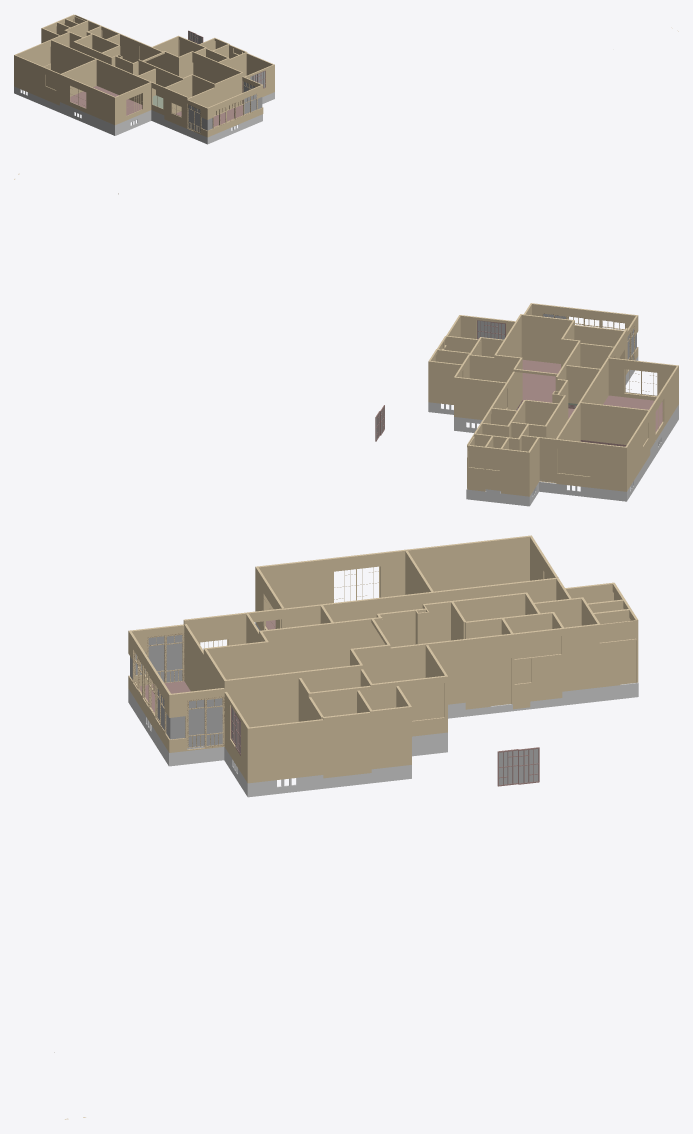
File: ttk.glb
The picture shows the model from 3 angles, top to bottom: view 1: azimuth 30°, elevation 25°; view 2: azimuth 150°, elevation 25°; view 3: azimuth 270°, elevation 25°; orthographic projection. The views are drawn at different scales.
Parts seen in each view (by area): view 1: group_1.001, group_5.006, group_5.001; view 2: group_1.001, group_5.006, group_5.001; view 3: group_1.001, group_5.006, group_1.018.
Boxes of the visible parts, <box> form: group_1.001: <box>14,14,274,137</box>; group_5.006: <box>14,86,274,144</box>; group_5.001: <box>70,86,242,126</box>; group_1.001: <box>428,303,678,496</box>; group_5.006: <box>428,356,678,506</box>; group_5.001: <box>522,359,662,446</box>; group_1.001: <box>128,535,638,783</box>; group_5.006: <box>128,622,638,797</box>; group_1.018: <box>407,683,444,721</box>.
Bounding box in the file's own units: 49.4 × 3.43 × 22.8.
